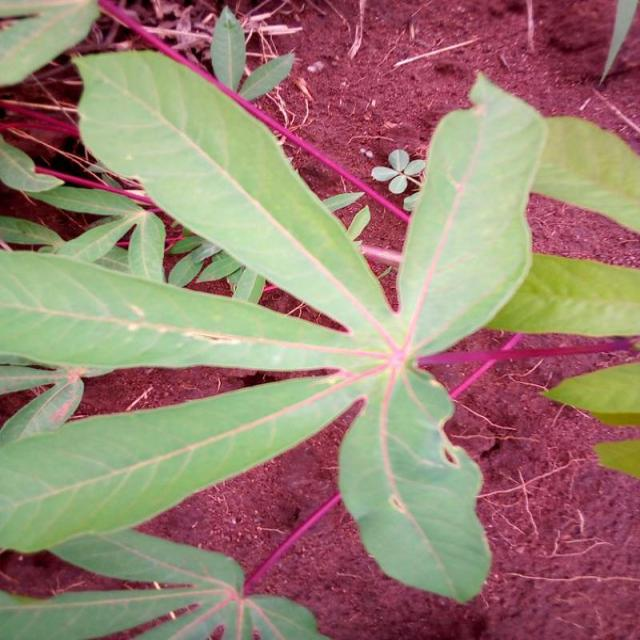cassava leaf: (1, 42, 637, 610), (70, 47, 392, 334)
